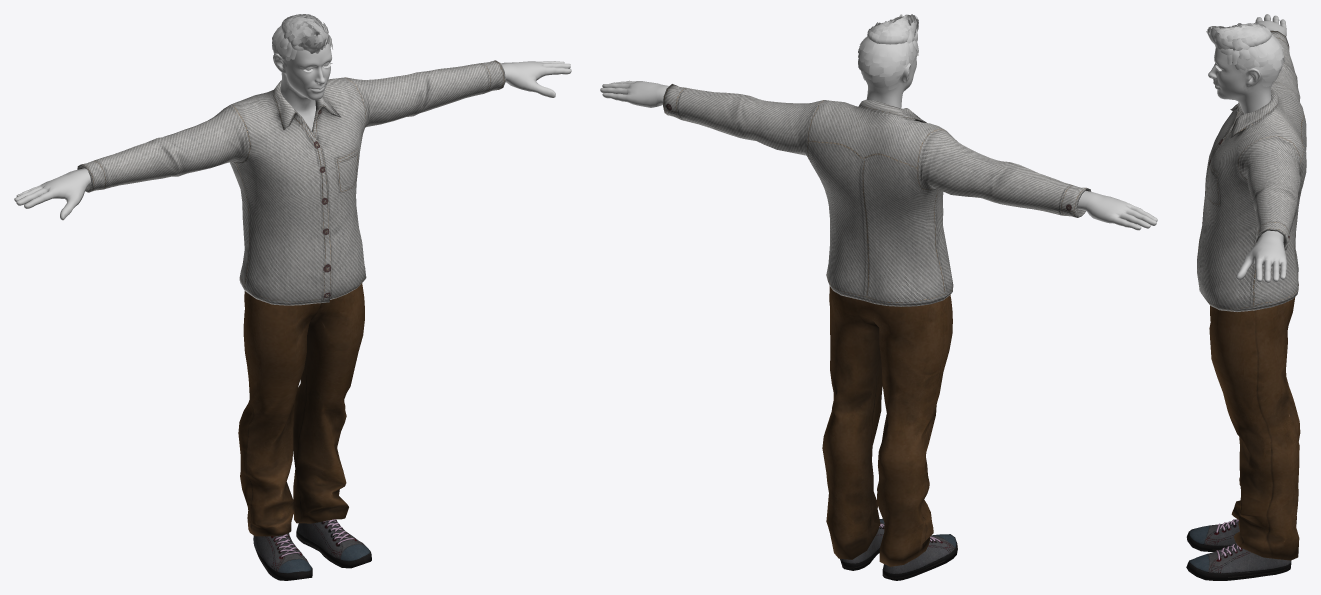
Rendered from boy4.obj.
3 views of the same model, side by side, from view 1: azimuth 30°, elevation 25°; view 2: azimuth 150°, elevation 25°; view 3: azimuth 270°, elevation 25° (orthographic).
Visible parts, largest first — view 1: Tops, Bottoms, Body, Shoes, Hair; view 2: Tops, Bottoms, Body, Hair, Shoes; view 3: Tops, Bottoms, Body, Shoes, Hair.
Part boxes in pixels (x1,y1,x2,y2): Tops: (77,60,505,305); Bottoms: (238,283,364,536); Body: (14,19,571,220); Shoes: (253,519,371,580); Hair: (272,14,332,66); Tops: (663,84,1091,306); Bottoms: (822,286,952,566); Body: (600,44,1157,230); Hair: (858,14,918,93); Shoes: (840,518,957,580); Tops: (1197,30,1306,311); Bottoms: (1209,297,1300,560); Body: (1208,14,1286,282); Shoes: (1186,519,1291,580); Hair: (1206,23,1284,88).
Size of the model in its own units: 194 by 180 by 36.74.
